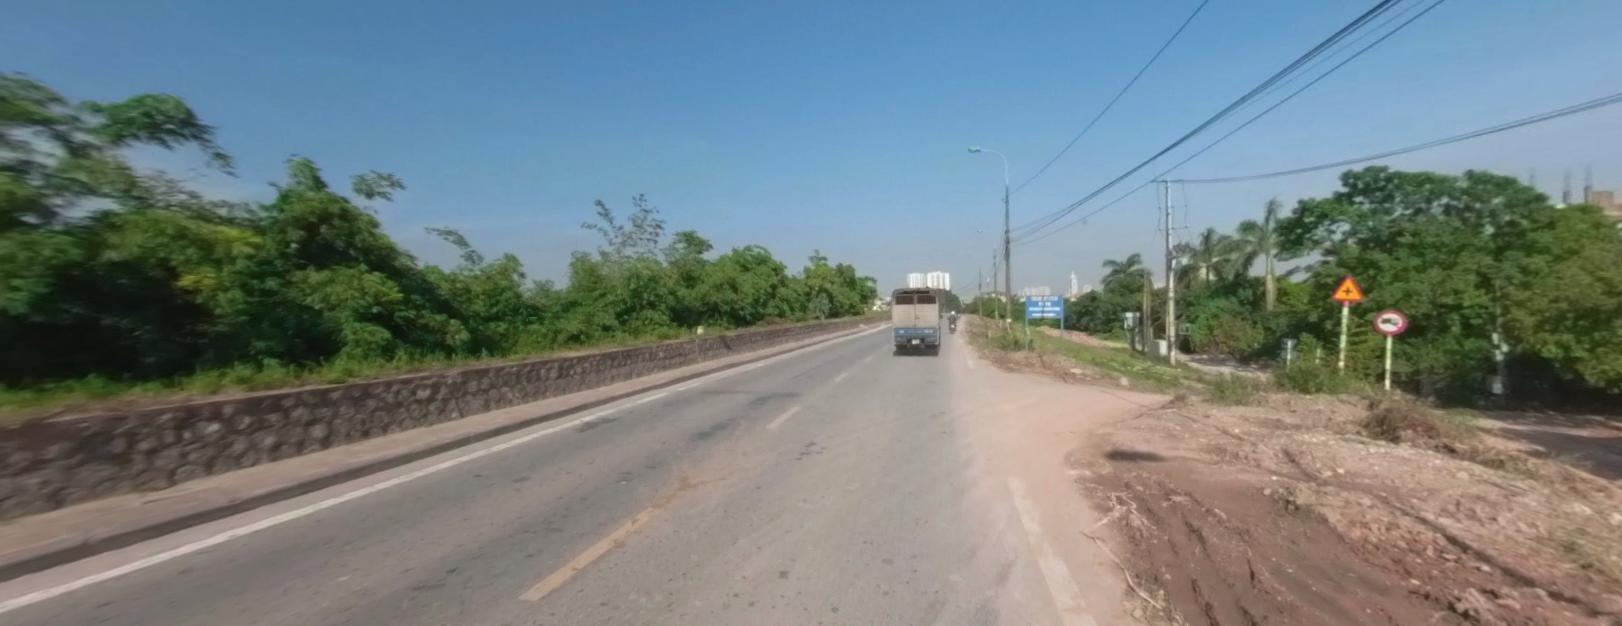Cam con lai: (1373, 304, 1407, 336)
Nguy hiem: (1331, 270, 1365, 302)
